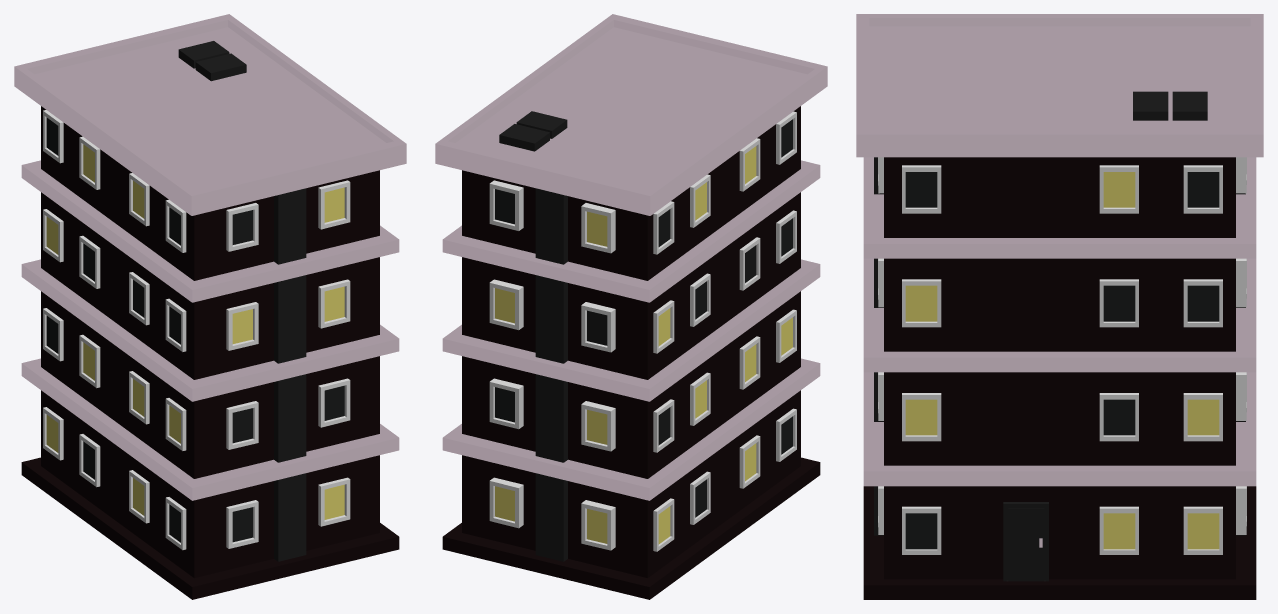
File: Building_Mittel_Fertig_2.fbx
The picture shows the model from 3 angles, left to right: view 1: azimuth 30°, elevation 25°; view 2: azimuth 150°, elevation 25°; view 3: azimuth 270°, elevation 25°; orthographic projection. The views are drawn at different scales.
Visible parts, largest first — view 1: Cube.001_Cube.003, Cube.004_Cube.007, Cube.012_Cube.013, Cube.009_Cube.010, Cube.007_Cube.008, Cube.006_Cube.004, Cube.005_Cube.002, Cube.003_Cube.001, Cube.003_Cube.002, Cube.011_Cube.012, Cube.008_Cube.009; view 2: Cube.001_Cube.003, Cube.004_Cube.007, Cube.012_Cube.013, Cube.009_Cube.010, Cube.007_Cube.008, Cube.006_Cube.004, Cube.005_Cube.002, Cube.003_Cube.001, Cube.003_Cube.002, Cube.011_Cube.012, Cube.008_Cube.009; view 3: Cube.001_Cube.003, Cube.004_Cube.007, Cube.005_Cube.002, Cube.006_Cube.004, Cube.007_Cube.008, Cube.012_Cube.013, Cube.003_Cube.001, Cube.003_Cube.002, Cube_Cube.005, Cube.011_Cube.012, Cube.008_Cube.009, Cube.009_Cube.010.
Boxes of the visible parts, x1,y1,x2,y2 form: Cube.001_Cube.003: [21, 106, 399, 599]; Cube.004_Cube.007: [14, 14, 406, 215]; Cube.012_Cube.013: [43, 110, 350, 450]; Cube.009_Cube.010: [274, 188, 306, 561]; Cube.007_Cube.008: [21, 160, 399, 302]; Cube.006_Cube.004: [21, 259, 399, 401]; Cube.005_Cube.002: [21, 358, 399, 500]; Cube.003_Cube.001: [46, 144, 344, 519]; Cube.003_Cube.002: [46, 117, 344, 542]; Cube.011_Cube.012: [43, 407, 350, 550]; Cube.008_Cube.009: [178, 41, 246, 81]; Cube.001_Cube.003: [442, 106, 820, 599]; Cube.004_Cube.007: [435, 14, 827, 215]; Cube.012_Cube.013: [489, 111, 796, 452]; Cube.009_Cube.010: [535, 188, 567, 561]; Cube.007_Cube.008: [442, 160, 820, 302]; Cube.006_Cube.004: [442, 259, 820, 401]; Cube.005_Cube.002: [442, 358, 820, 500]; Cube.003_Cube.001: [495, 146, 792, 544]; Cube.003_Cube.002: [495, 119, 792, 517]; Cube.011_Cube.012: [489, 408, 796, 551]; Cube.008_Cube.009: [499, 111, 567, 151]; Cube.001_Cube.003: [863, 157, 1256, 599]; Cube.004_Cube.007: [856, 14, 1263, 157]; Cube.005_Cube.002: [863, 372, 1256, 486]; Cube.006_Cube.004: [863, 258, 1256, 372]; Cube.007_Cube.008: [863, 157, 1256, 258]; Cube.012_Cube.013: [878, 157, 1246, 441]; Cube.003_Cube.001: [905, 172, 1219, 549]; Cube.003_Cube.002: [905, 172, 1219, 549]; Cube_Cube.005: [1003, 502, 1048, 581]; Cube.011_Cube.012: [878, 486, 1246, 554]; Cube.008_Cube.009: [1133, 91, 1207, 120]; Cube.009_Cube.010: [874, 157, 1245, 535].
Size of the model in its own units: 1619 by 2312 by 2935.
